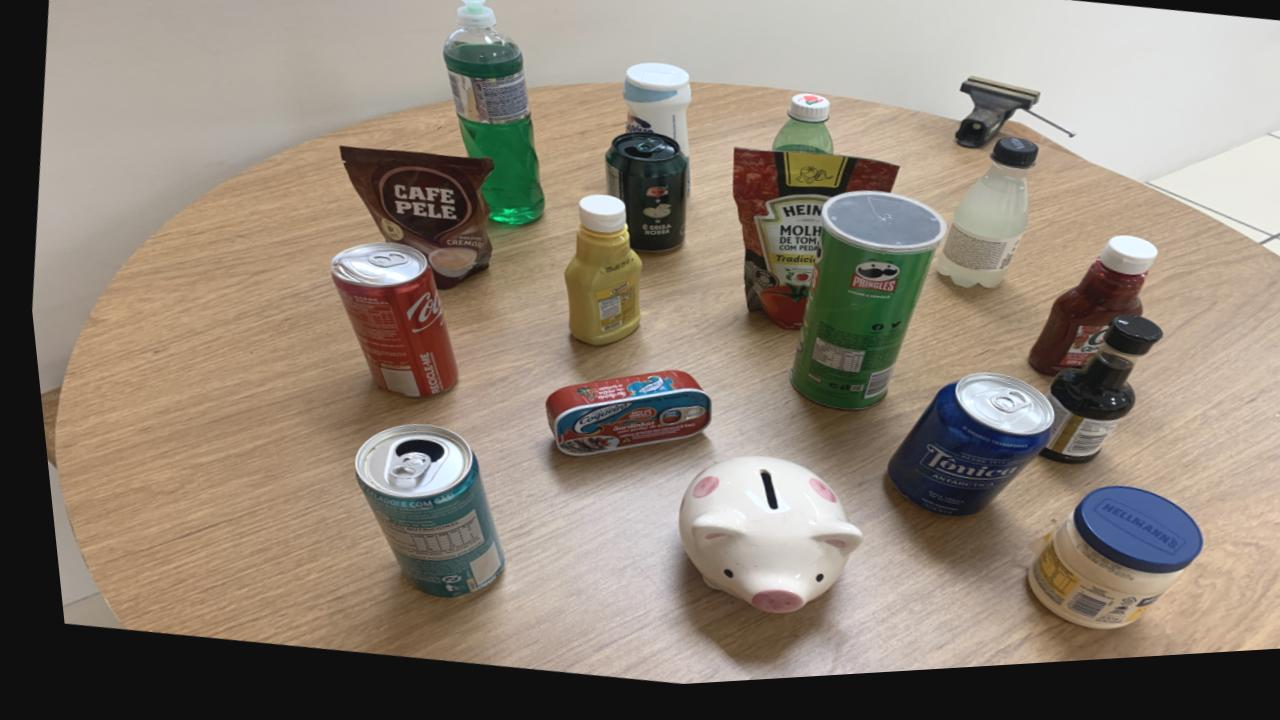Cleaner-Cleanup_Items: (621, 70, 689, 166)
Coffee-Pantry_Items: (337, 149, 490, 294)
Coke-Drinks: (323, 246, 449, 402)
Detergent-Cleanup_Items: (440, 1, 540, 231)
English_Sauce-Pantry_Items: (1030, 327, 1153, 476)
Guarana-Drinks: (768, 103, 829, 163)
Guarana_Can-Drinks: (601, 139, 684, 260)
Ketchup-Pantry_Items: (1019, 248, 1151, 388), (1078, 402, 1080, 404)
Mayonnaise-Pantry_Items: (1015, 499, 1190, 642)
Mustard-Pantry_Items: (557, 203, 636, 352)
Pig_Safe-Miscellaneous: (666, 464, 850, 623)
Pringles-Snacks: (781, 200, 939, 420)
Soda-Drinks: (930, 149, 1033, 299)
Tea-Drinks: (343, 428, 491, 602)
Tomato_Sauce-Pantry_Items: (727, 156, 893, 339)
Tonic-Drinks: (877, 384, 1043, 527)
Tuna_Can-Pantry_Items: (536, 378, 701, 463)
